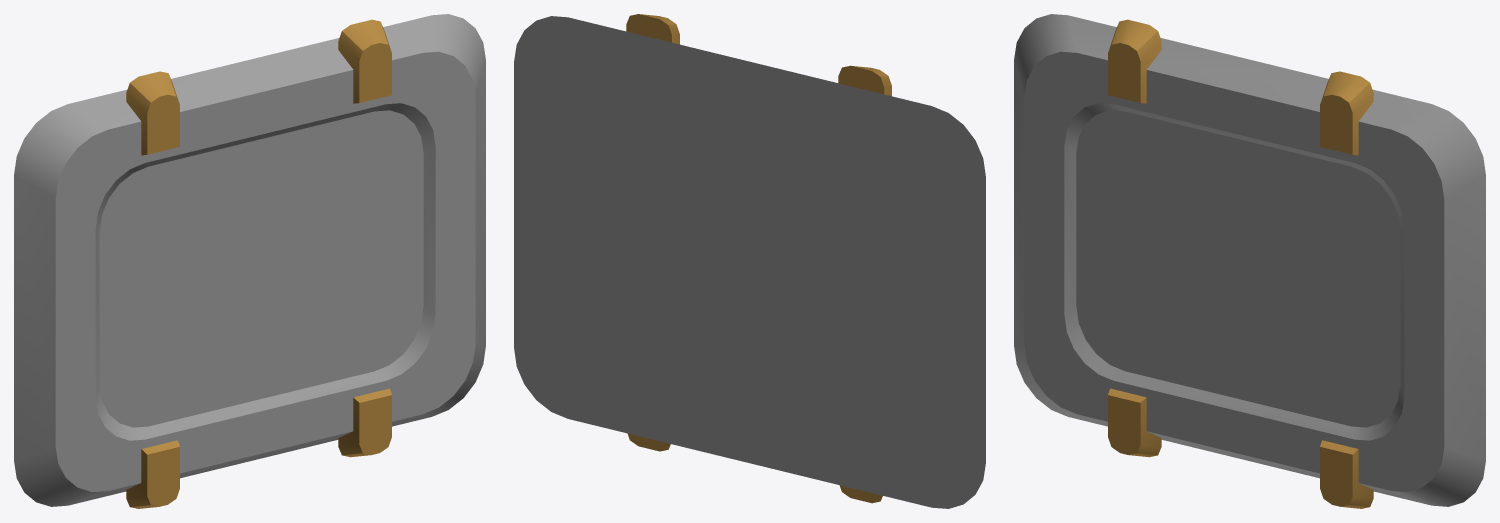
Rendered from Details_Plate_Small.glb.
The picture shows the model from 3 angles, left to right: view 1: azimuth 30°, elevation 25°; view 2: azimuth 150°, elevation 25°; view 3: azimuth 330°, elevation 25°; orthographic projection.
Visible parts, largest first — view 1: Details_Plate_Small; view 2: Details_Plate_Small; view 3: Details_Plate_Small.
Boxes of the visible parts, x1,y1,x2,y2 form: Details_Plate_Small: [14, 14, 485, 508]; Details_Plate_Small: [514, 14, 985, 508]; Details_Plate_Small: [1014, 14, 1485, 508].
Size of the model in its own units: 0.1346 by 0.1179 by 0.00975.
